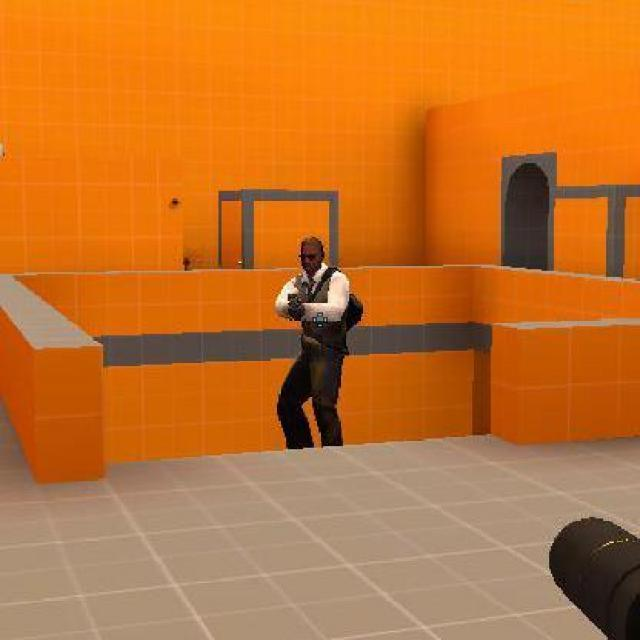Dead: (297, 236, 325, 276)
T-Body: (272, 237, 360, 452)
